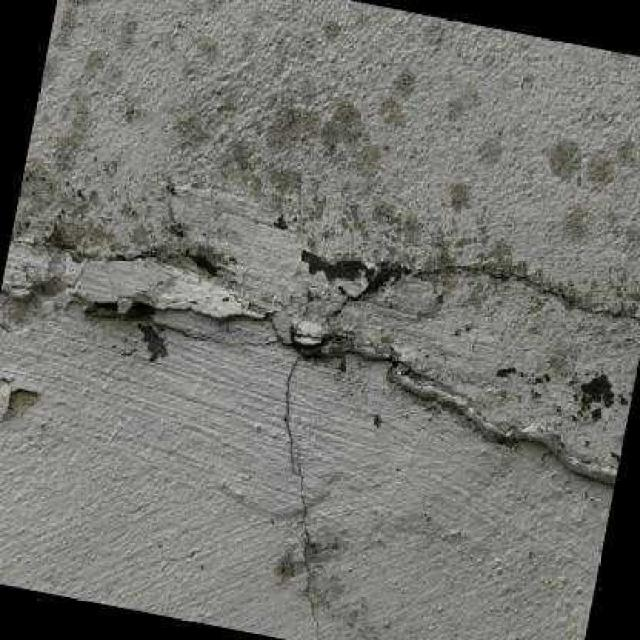D00: (269, 321, 322, 640), (424, 260, 640, 324)
